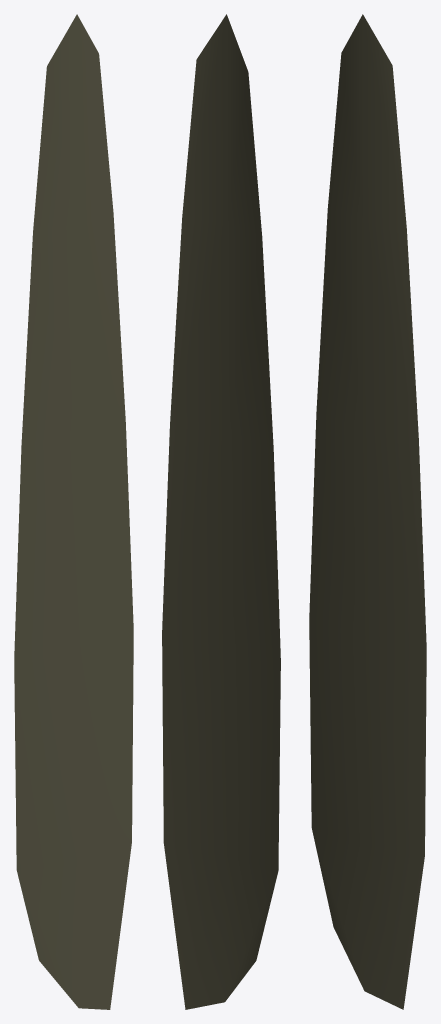
Rendered from finch_feather_flight_primary_002.obj.
3 renders of one model, left to right at view 1: azimuth 30°, elevation 25°; view 2: azimuth 150°, elevation 25°; view 3: azimuth 330°, elevation 25°, orthographic.
Visible parts, largest first — view 1: feather_flight_primary_002; view 2: feather_flight_primary_002; view 3: feather_flight_primary_002.
Part boxes in pixels (box(x1,y1,x2,y2)): feather_flight_primary_002: box(14, 14, 133, 1009); feather_flight_primary_002: box(162, 14, 280, 1009); feather_flight_primary_002: box(309, 14, 426, 1009).
Bounding box in the file's own units: 0.00583 × 0.0469 × 0.000351.
